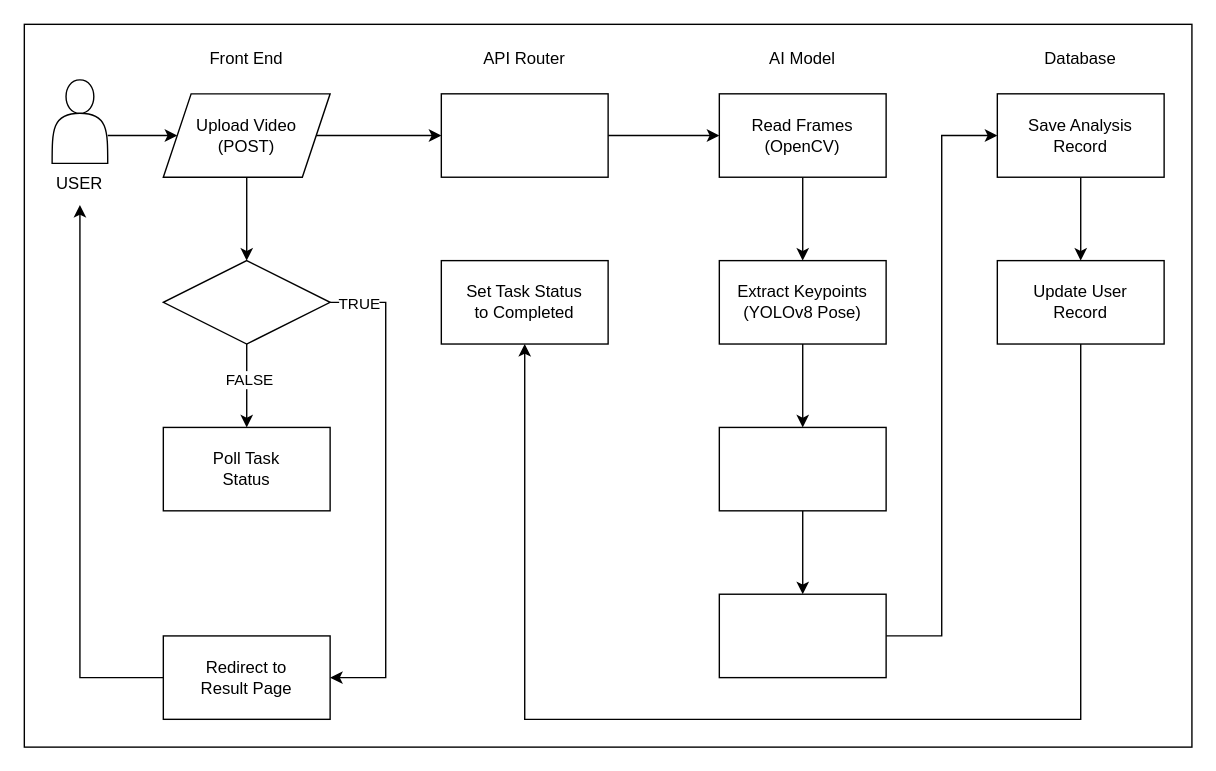
This 1216x771 diagram has some shape labels left out. The shapes that lost their labels are listed below. From the top down, each one's centre as x and y in pixels, then its label:
At point (524, 134): "Initialize Task".
At point (246, 301): "Is Task Completed?".
At point (802, 468): "Preprocess Data".
At point (802, 635): "Predict Similarity (TensorFlow)".
